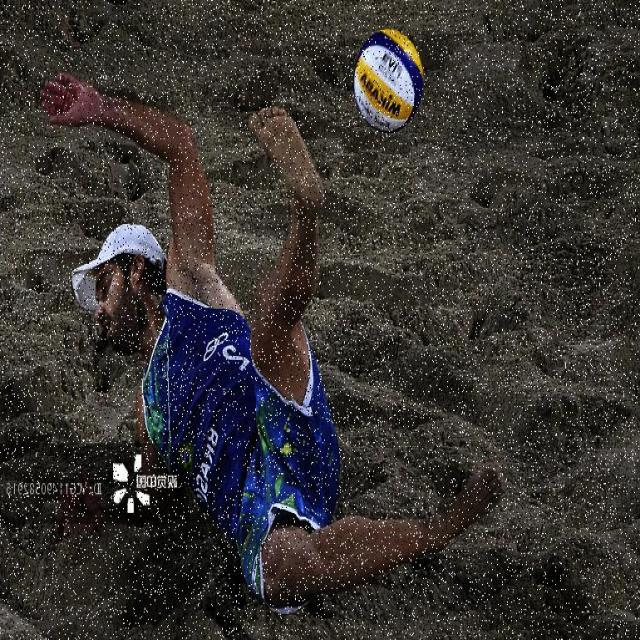fall: (96, 163, 472, 583)
